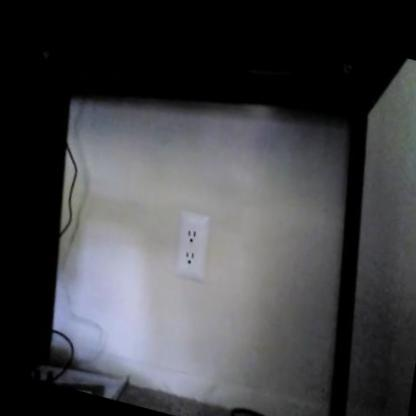OUTLET: (165, 206, 216, 283)
